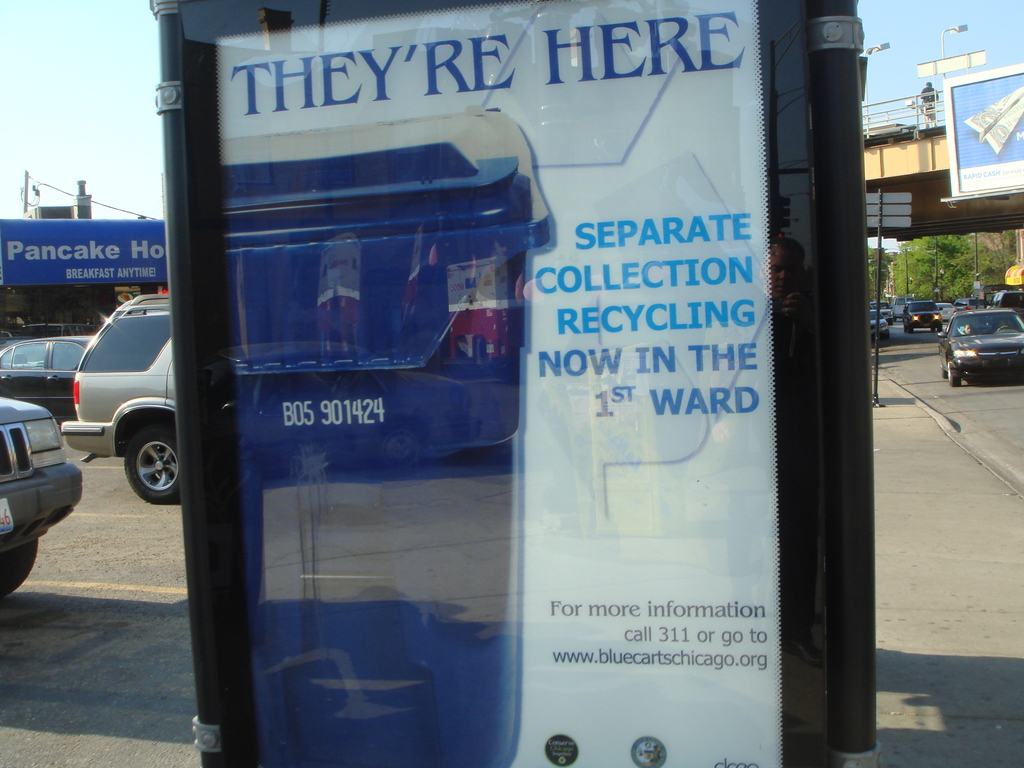Car: (58, 291, 175, 510), (0, 383, 83, 599), (863, 297, 1023, 387), (0, 330, 101, 414)
